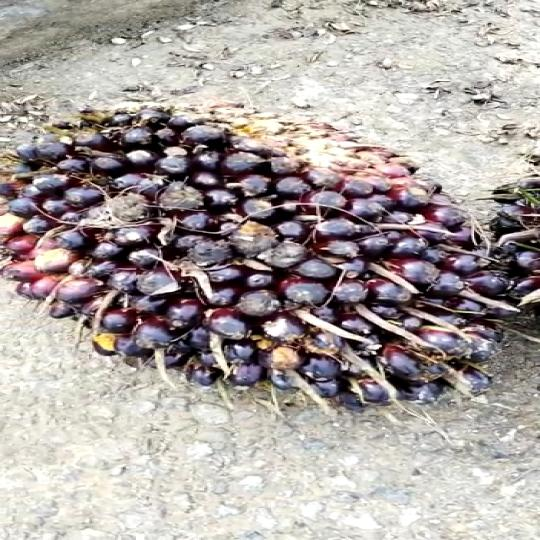mentah: (0, 100, 508, 431)
